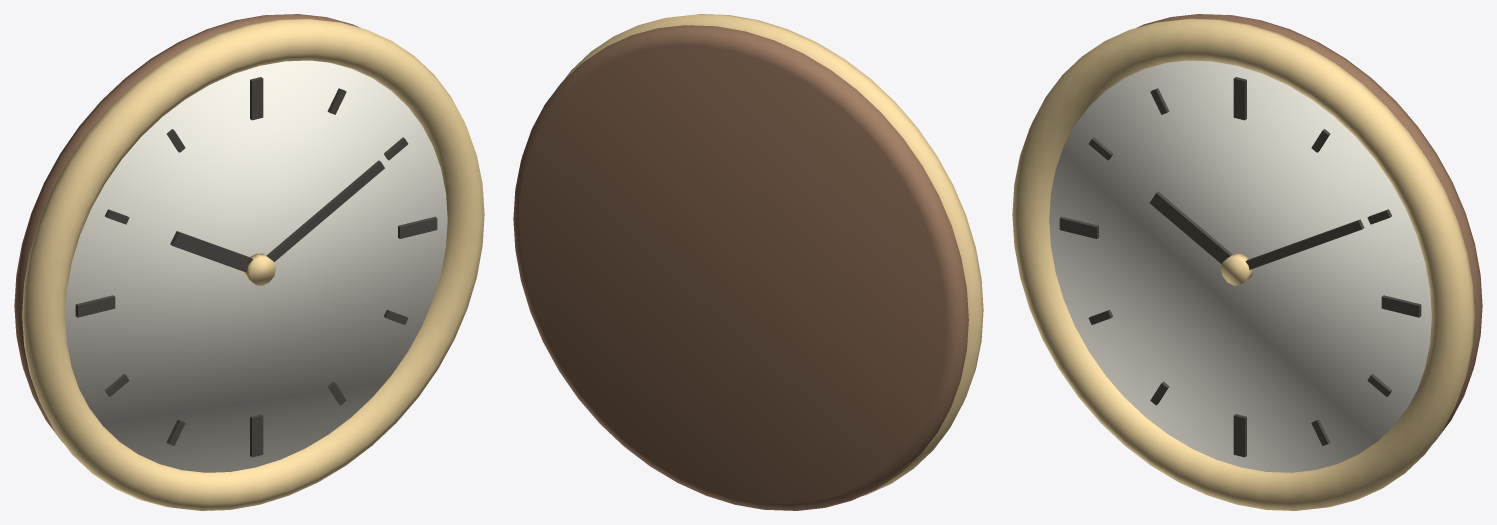
Rendered from clock.glb.
3 renders of one model, left to right at view 1: azimuth 30°, elevation 25°; view 2: azimuth 150°, elevation 25°; view 3: azimuth 330°, elevation 25°, orthographic.
Visible parts, largest first — view 1: clock; view 2: clock; view 3: clock.
Boxes of the visible parts, x1=… form: clock: x1=14, y1=14, x2=484, y2=510; clock: x1=513, y1=14, x2=983, y2=510; clock: x1=1012, y1=14, x2=1482, y2=510.
Size of the model in its own units: 1.22 by 1.22 by 0.1376.
